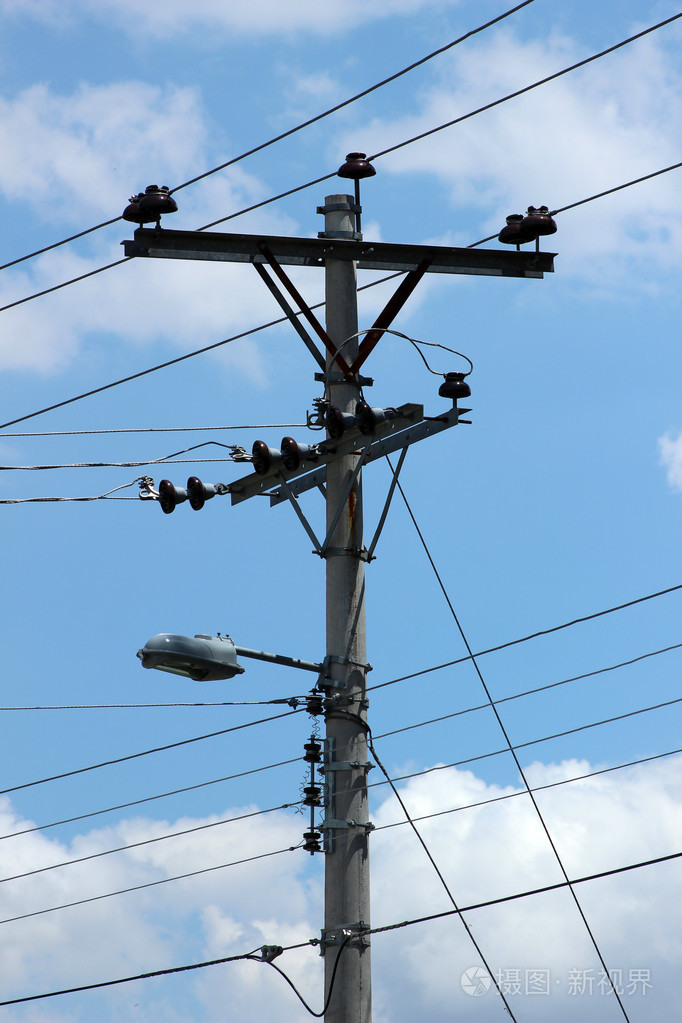insulator: (249, 432, 299, 470), (158, 473, 205, 513)
